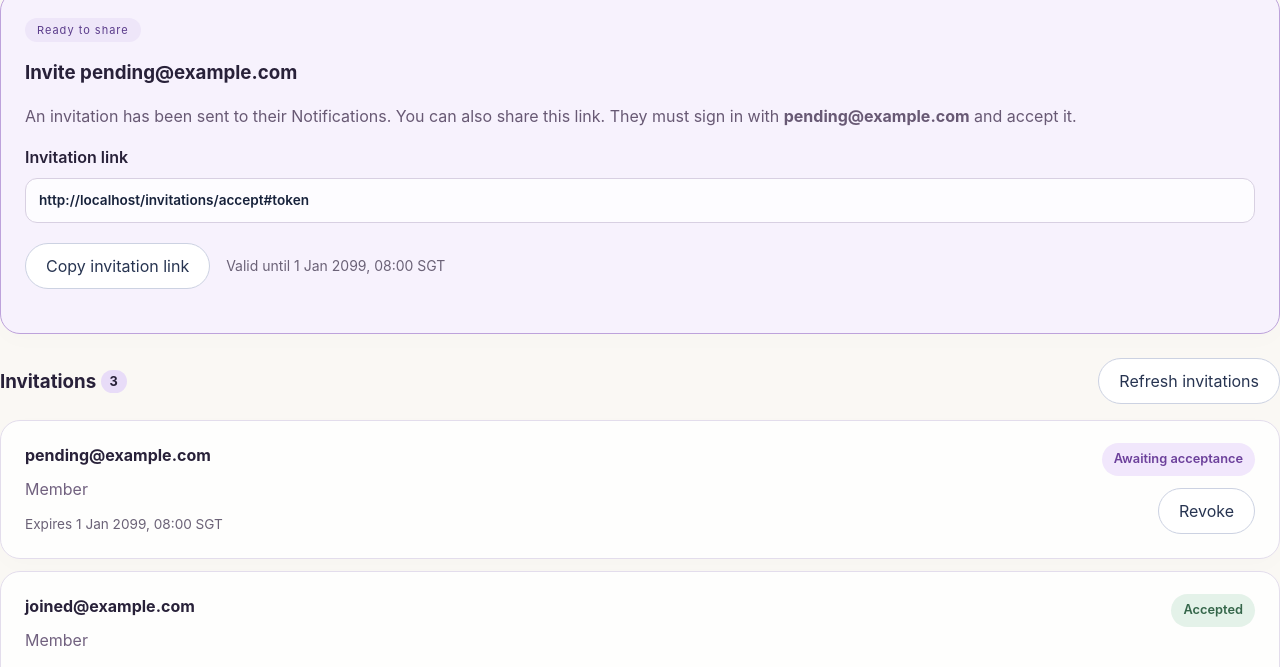
copies a pending link and renders accepted and expired invitations accurately
The width and height of the screenshot is (1280, 667).
What coordinates should you click on to do the following:
click the button "Copy invitation link"
I would click on:
 (118, 266)
Its box is [25,244,210,290].
(page scrolled)
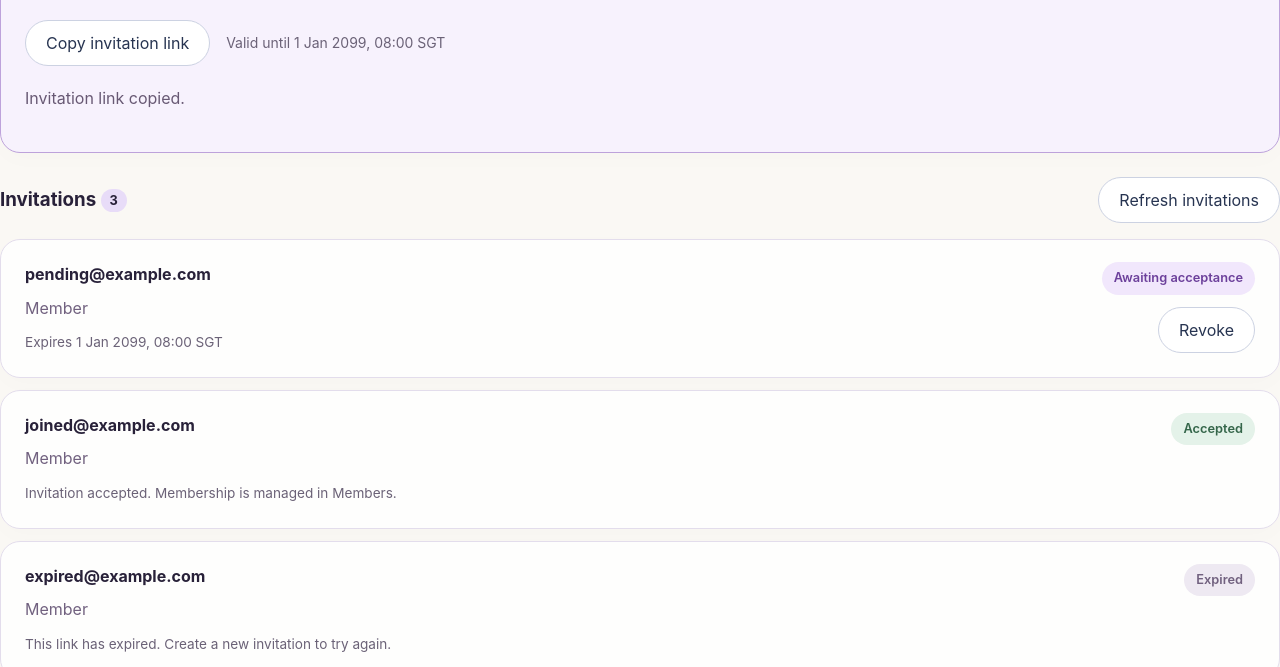
Check: the text "Accepted" is shown, box [1172,413,1255,445]
Check: the text "Invitation link copied." is shown, box [25,88,185,108]
